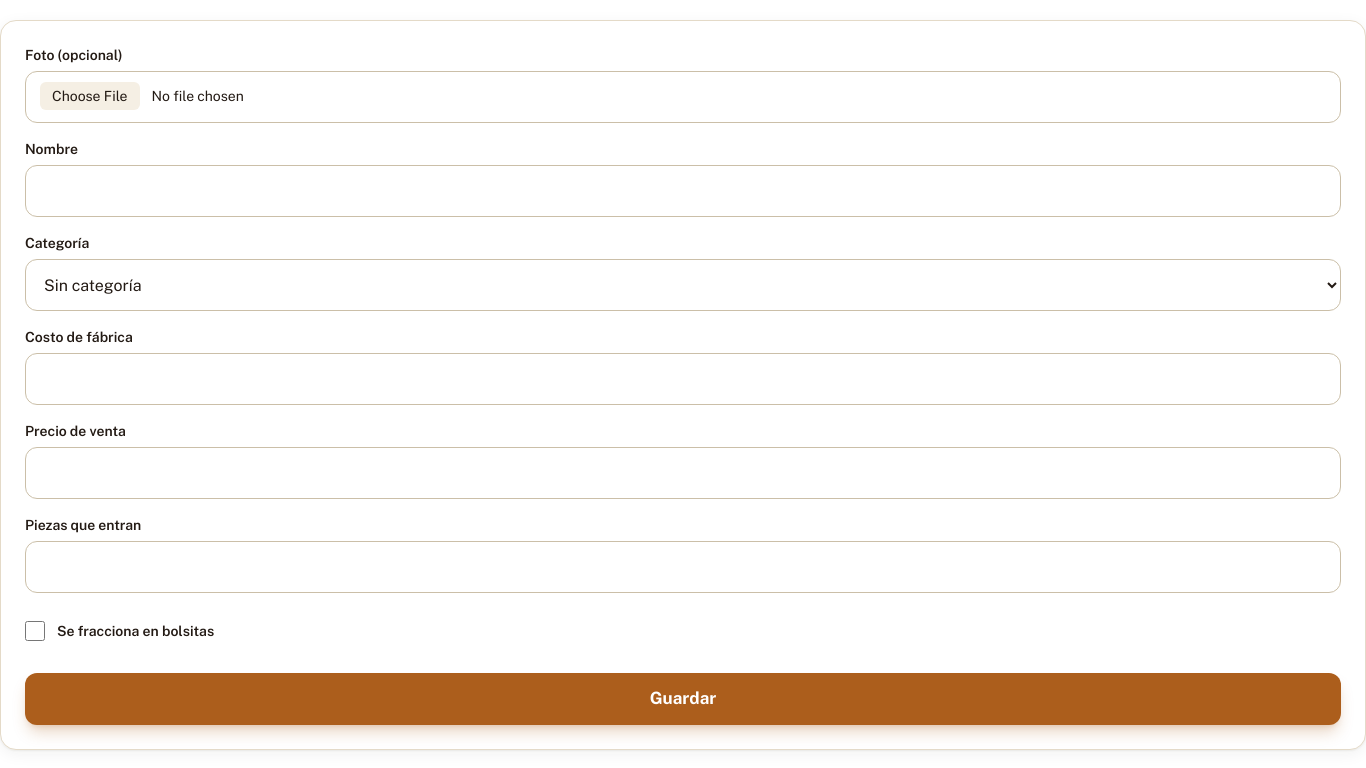
Test: ProductFormComponent › en alta › escribir en precio borra su error de campo
The image size is (1366, 768).
Type "Creatina" into the field with id "name" at point(683, 191), box [25, 165, 1341, 217]
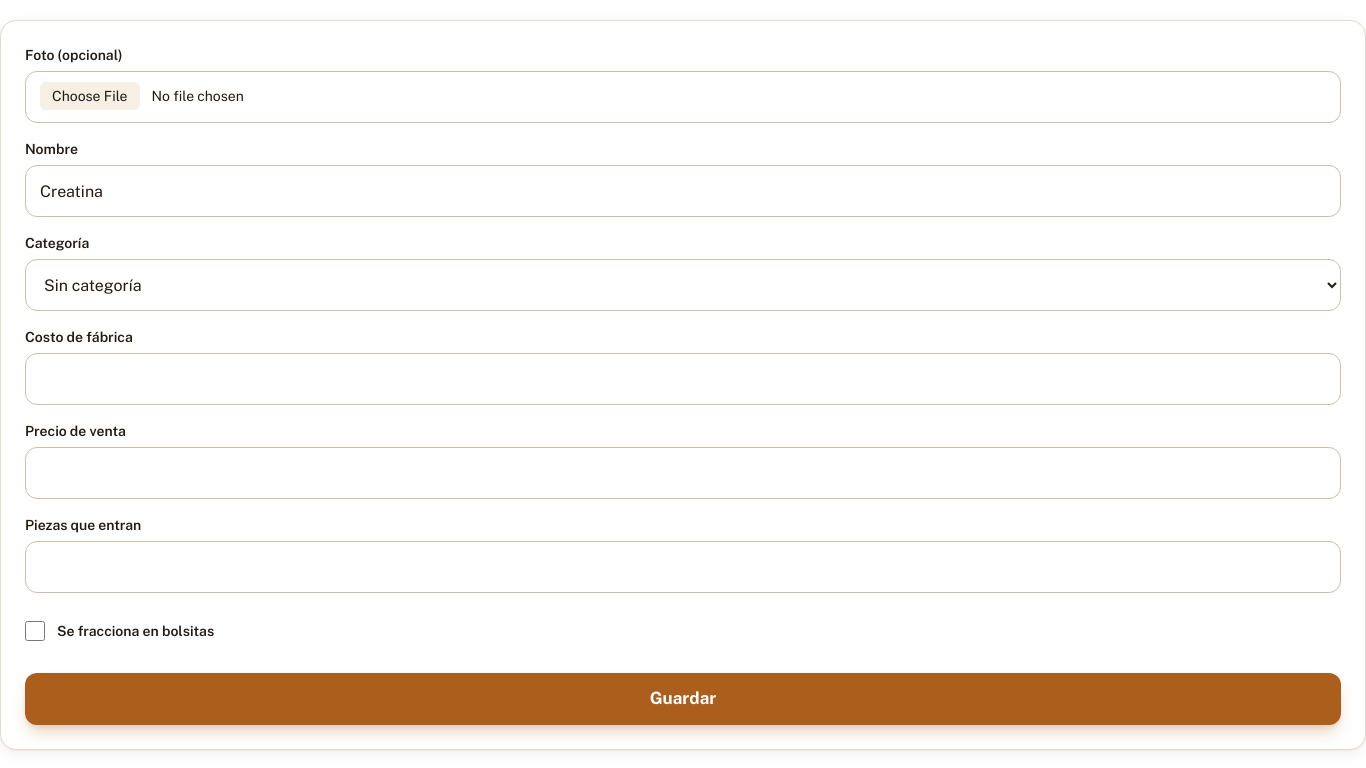
Type "100" into the field with id "unit-cost" at point(683, 379), box [25, 353, 1341, 405]
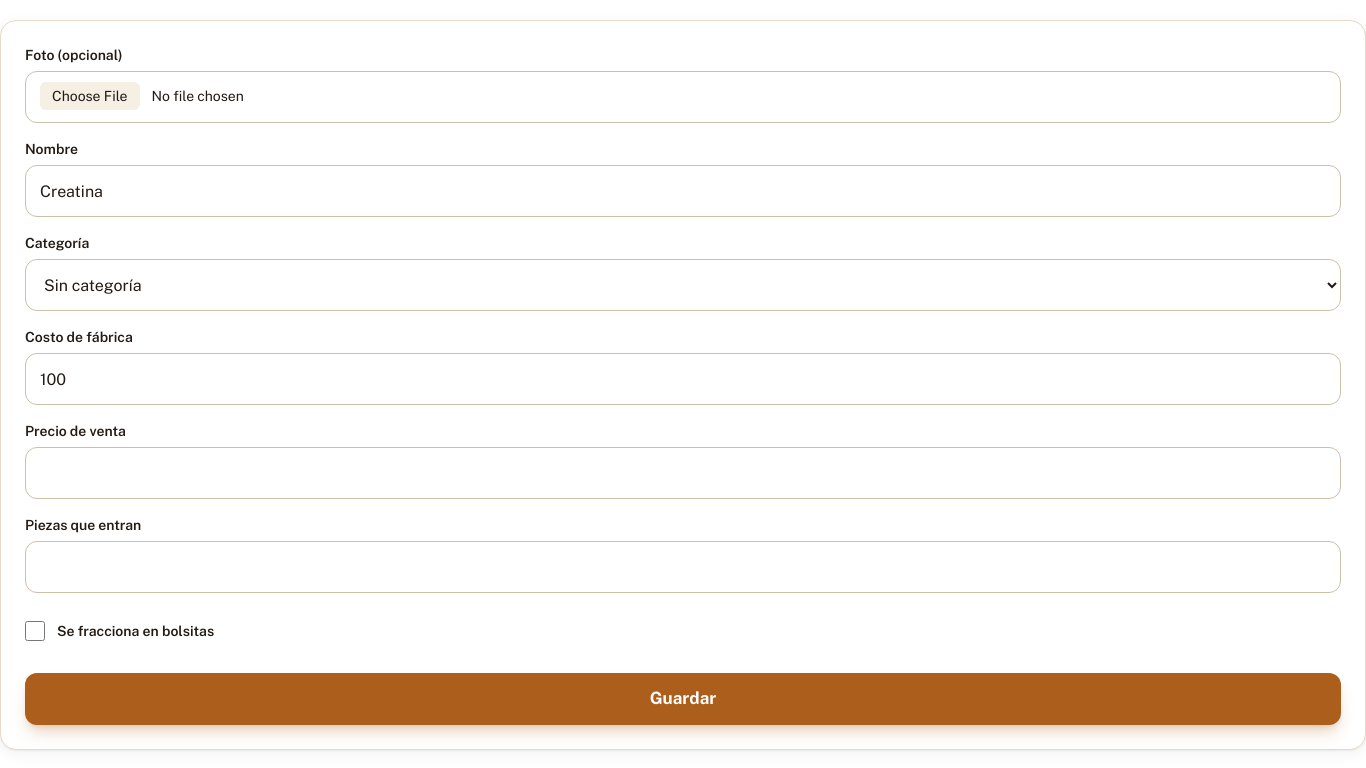
Type "10" into the number field with id "units" at point(683, 567), box [25, 541, 1341, 593]
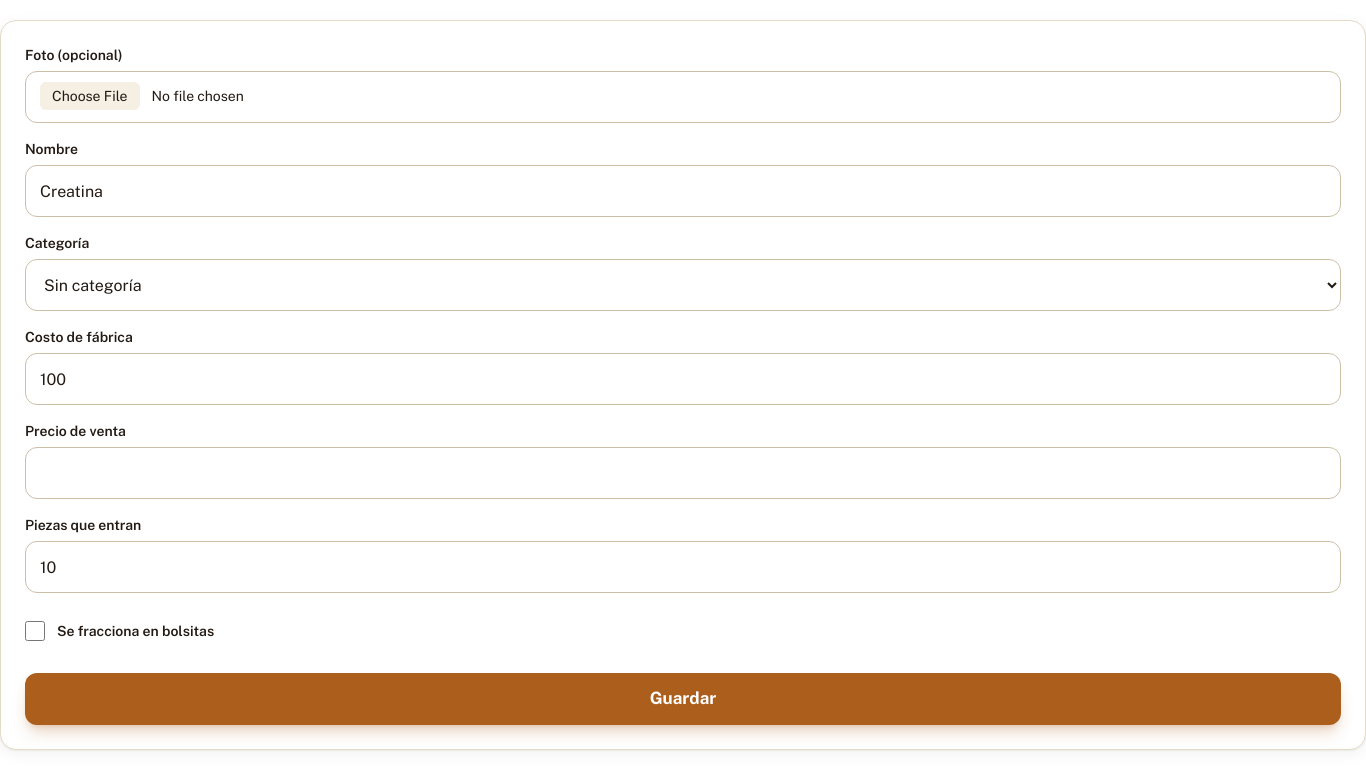
Submit the form
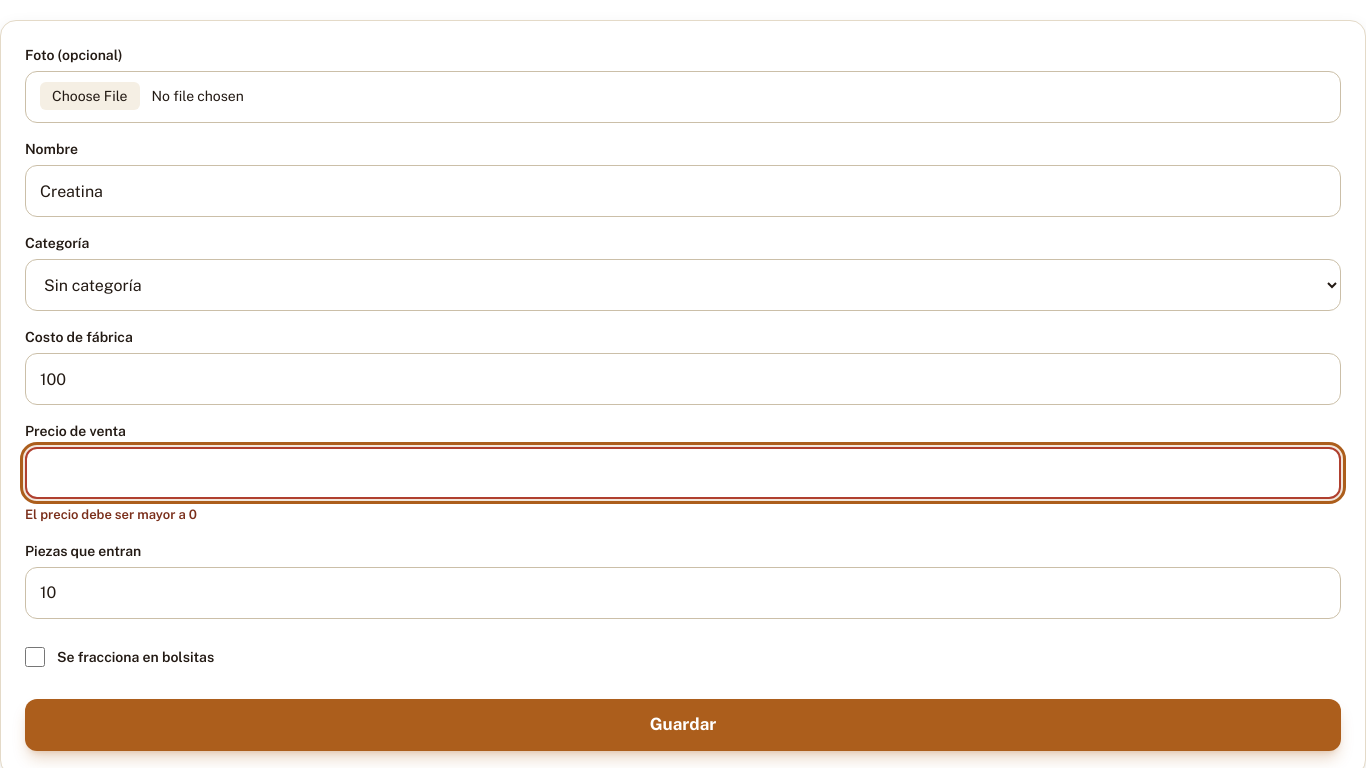
Result: the text "El precio debe ser mayor a 0" is shown at [25, 507, 197, 522]
Type "0" into the field labelled "Precio de venta" at point(683, 473), box [25, 447, 1341, 499]
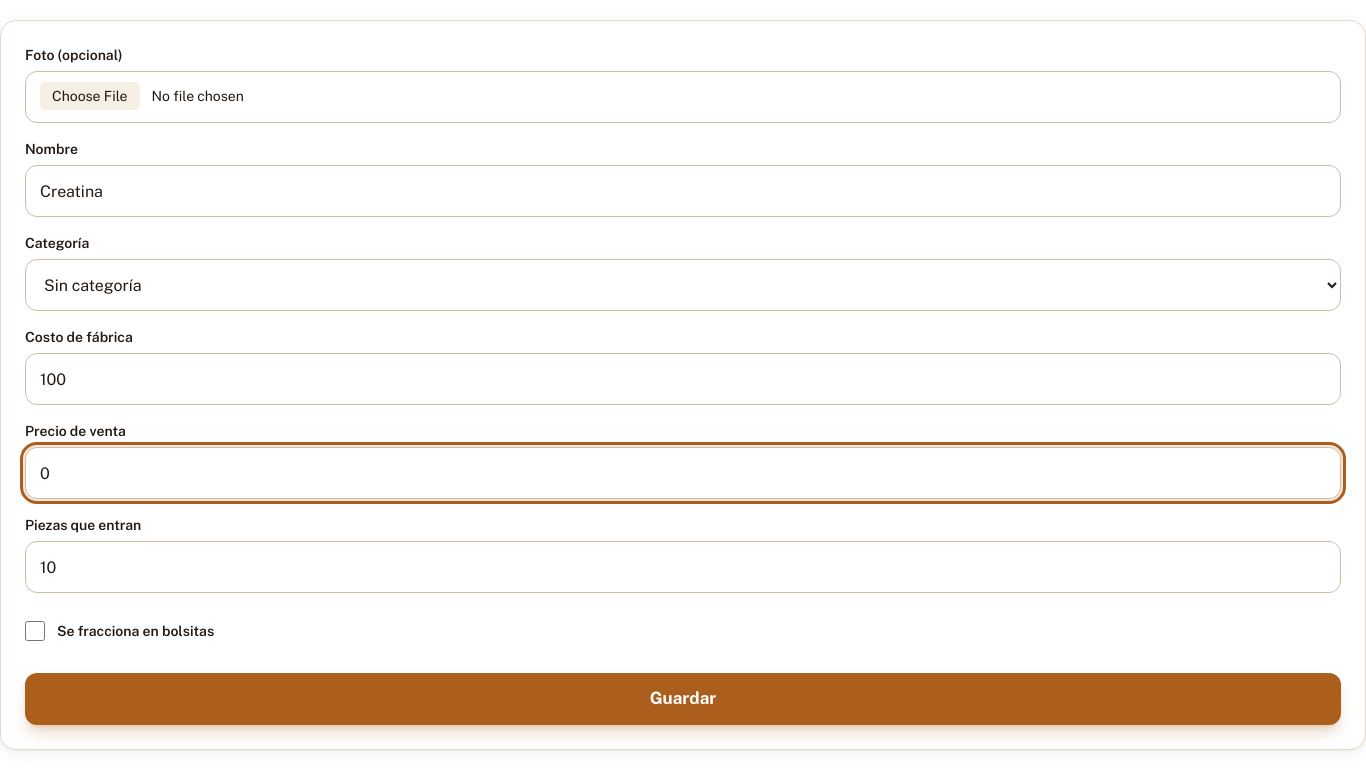
Result: the text "El precio debe ser mayor a 0" is gone
